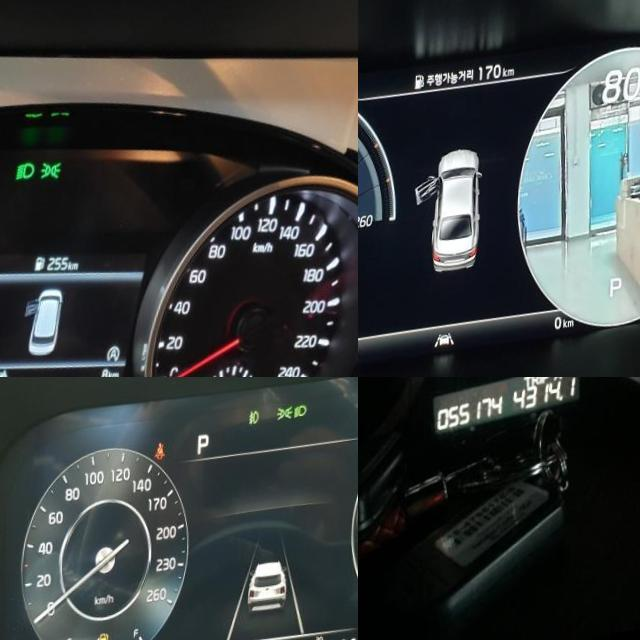FrontFogLight: (249, 418, 260, 436)
Low beam: (15, 165, 38, 191), (294, 415, 308, 430)
SideLamp: (40, 167, 62, 191), (276, 416, 294, 432)
